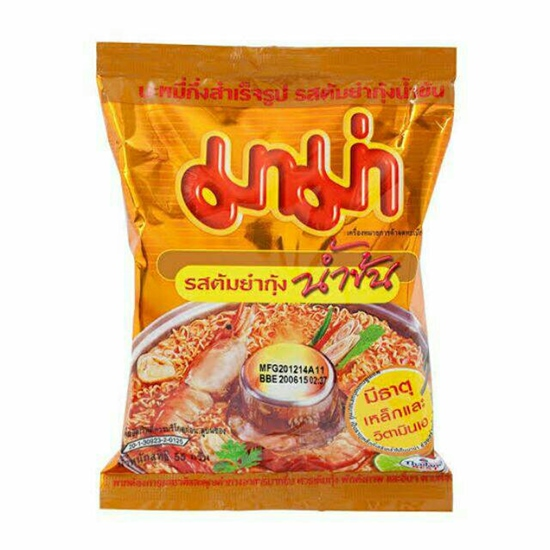Snack: (89, 38, 467, 520)
